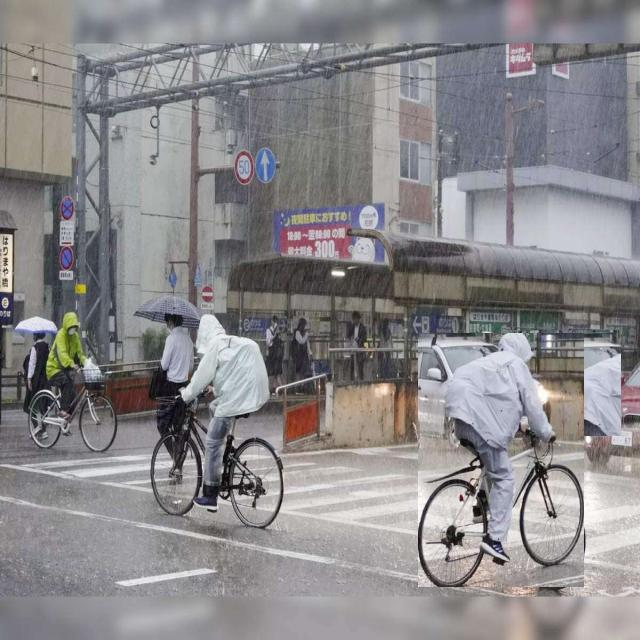bicycle: (419, 334, 584, 587), (151, 319, 284, 527), (29, 312, 116, 451)
car: (509, 331, 621, 436)
